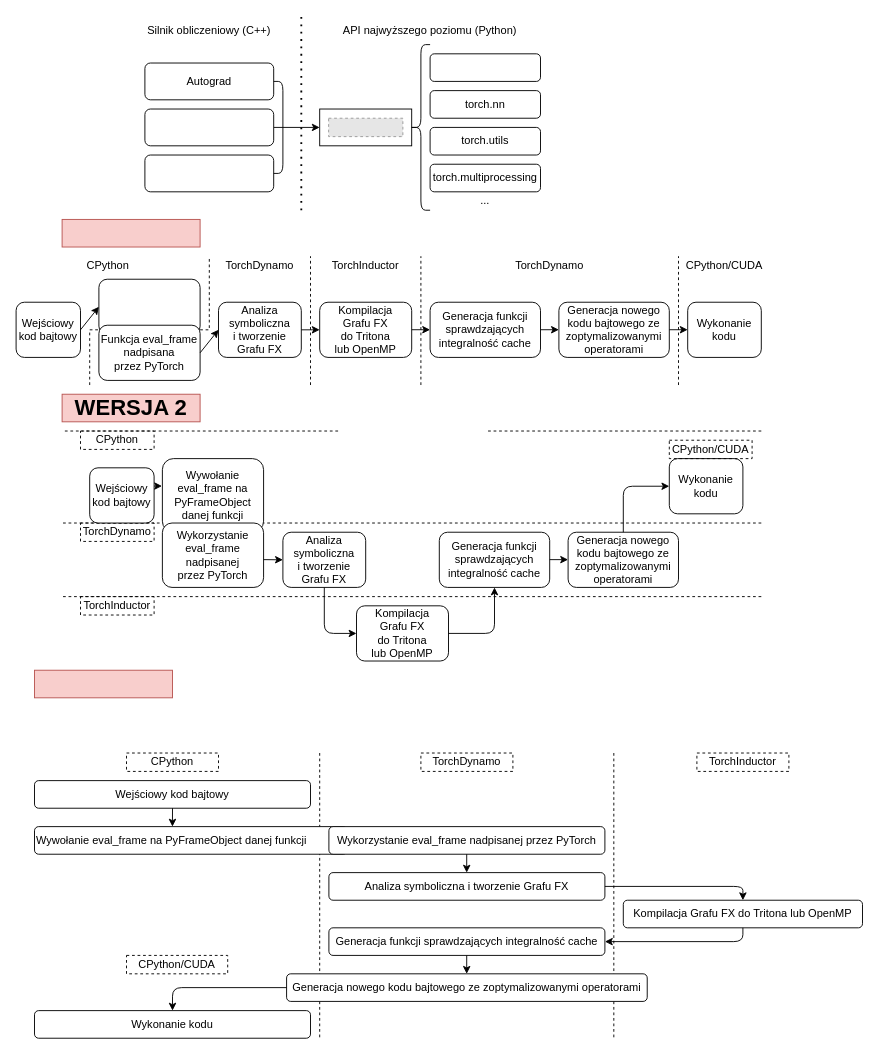
Some shapes in this 879 by 1055 pixel diagram are drawn without their labels. Grey dashed boxes stand in for pictures. The box of each missing label's shape, as (x1, y1, x2, y2) in pixels:
ATen: (144, 108, 274, 146)
PyFrameObject .eval_frame: (98, 278, 200, 334)
torch.autograd: (429, 53, 540, 81)
TorchScript JIT Compiler: (144, 154, 274, 192)
WERSJA 1: (61, 218, 200, 247)
WERSJA 3: (34, 669, 172, 698)
